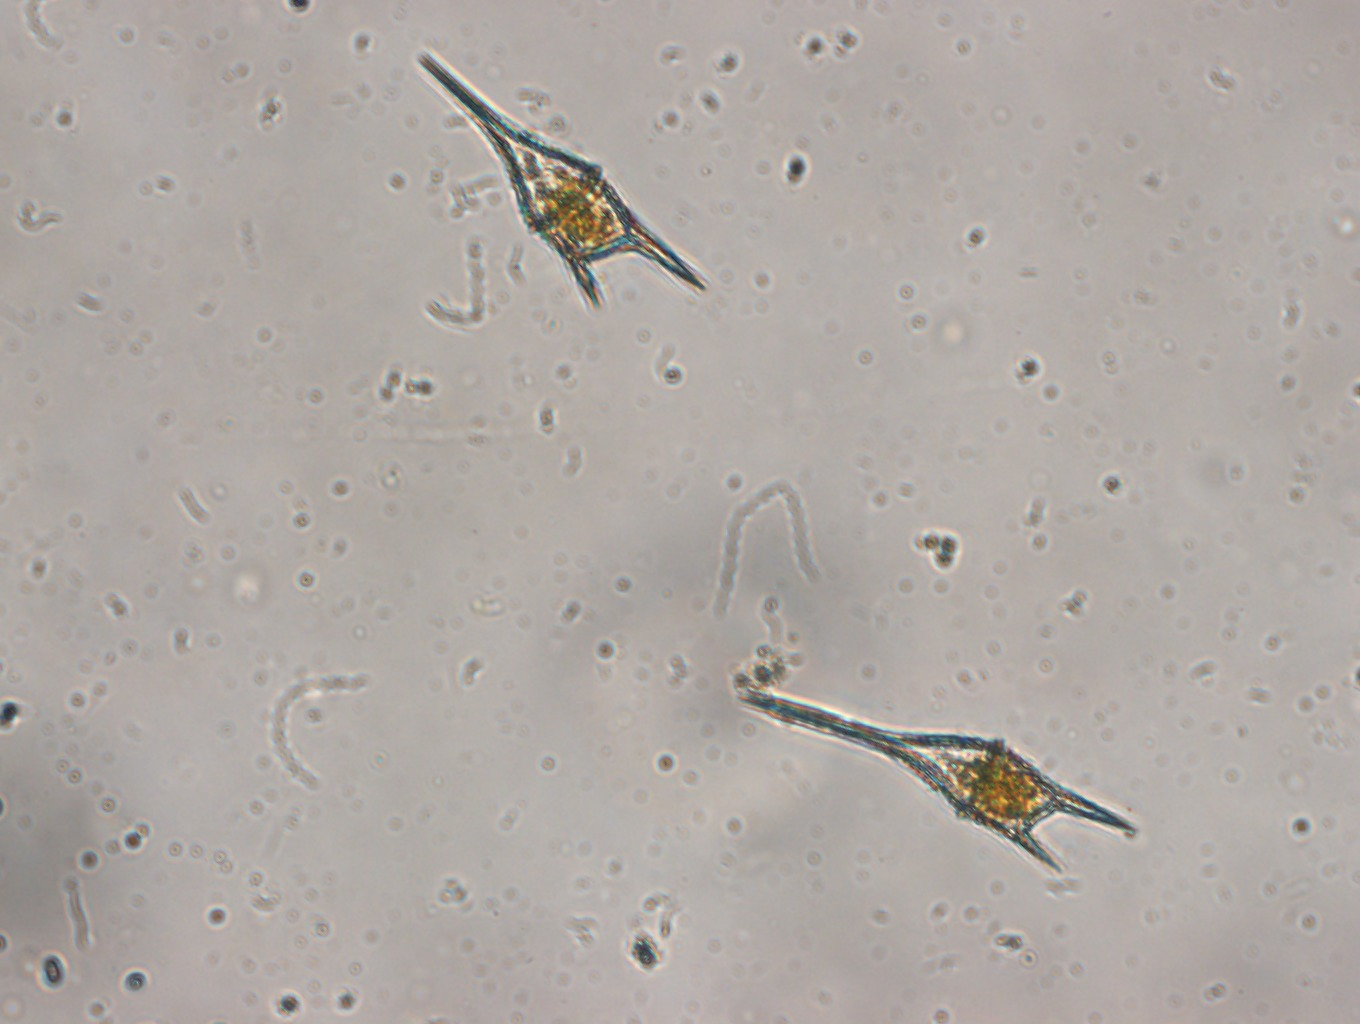ceratium furca: (412, 44, 713, 316), (735, 679, 1144, 872)
